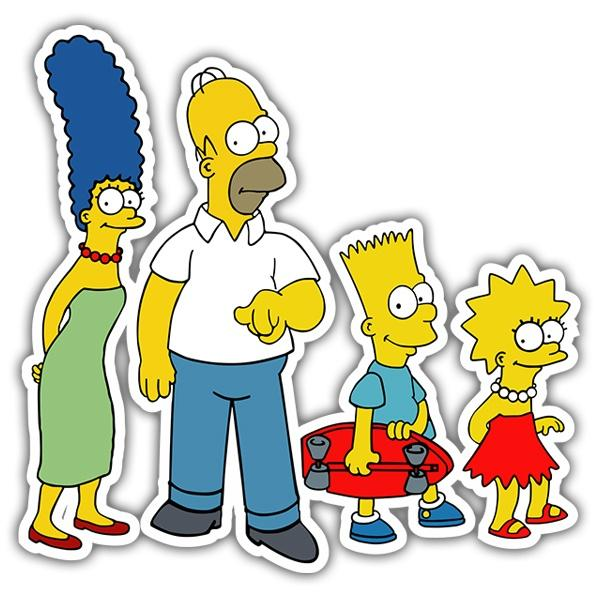Bart: (310, 207, 474, 571)
Homer: (160, 48, 333, 575)
Lisa: (456, 230, 592, 570)
Marge: (0, 13, 163, 591)
